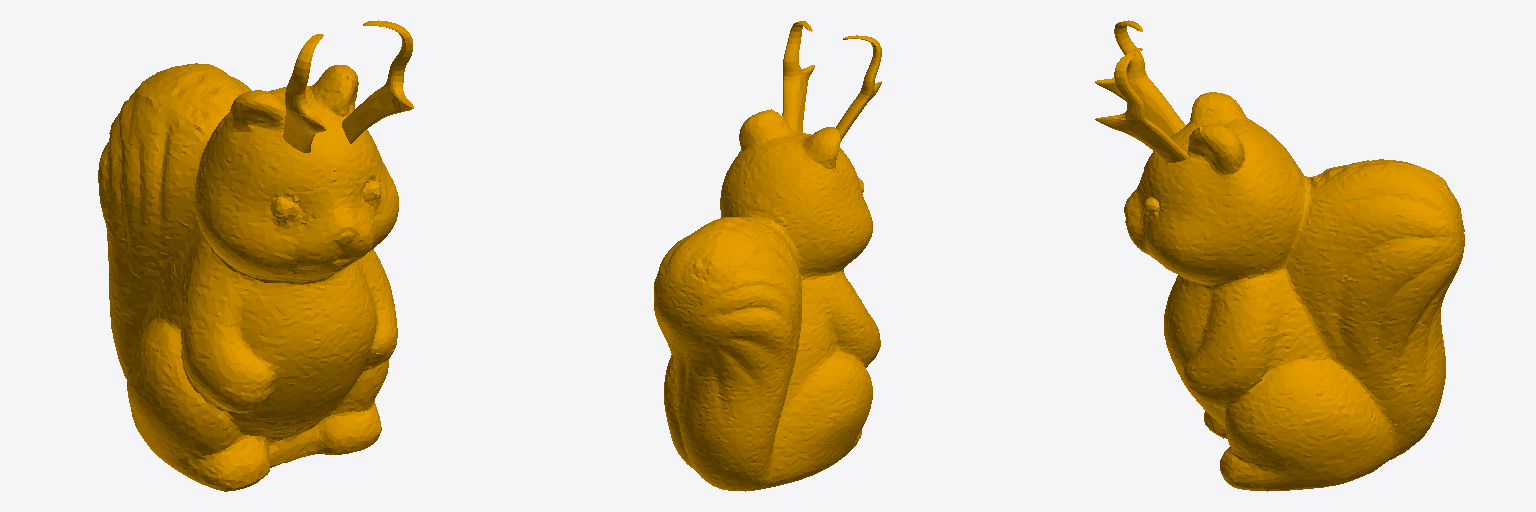
robot.urdf — 44447:
<?xml version='1.0'?>

<robot name="44447">
    <static>false</static>
    <link name="link">
        <inertial>
            <mass value="0.15476246995746046"/>
            <inertia ixx="0.0001695376600571648" ixy="2.306999257080822e-06" ixz="-1.1260533577722258e-06"
                     iyy="0.0001273063608499674" iyz="1.5211436759212857e-05" izz="9.351941601838882e-05"/>
        </inertial>
        <collision name="collision">
            <geometry>
                <mesh filename="package://miscnet/train/44447/collision_model_vhacd.obj"/>
            </geometry>
        </collision>
        <visual name="visual">
            <geometry>
                <mesh filename="package://miscnet/train/44447/visual_model.obj"/>
            </geometry>
        </visual>
    </link>
</robot>

--- Render facts (derived) ---
3 views of the same robot in one strip: view 1: azimuth 30°, elevation 25°; view 2: azimuth 150°, elevation 25°; view 3: azimuth 270°, elevation 25° (orthographic).
Model 44447 with 1 links and 0 joints (none), rooted at link, posed all joints at 0.
Visible links, largest first — view 1: link; view 2: link; view 3: link.
Link boxes in pixels (<box>): link: <box>98,20,413,491</box>; link: <box>654,21,881,491</box>; link: <box>1095,20,1464,491</box>.
Size in the robot's own frame: 0.0659 by 0.102 by 0.1261 metres.
1 mesh visuals loaded from 1 distinct referenced files (1 OBJ).
